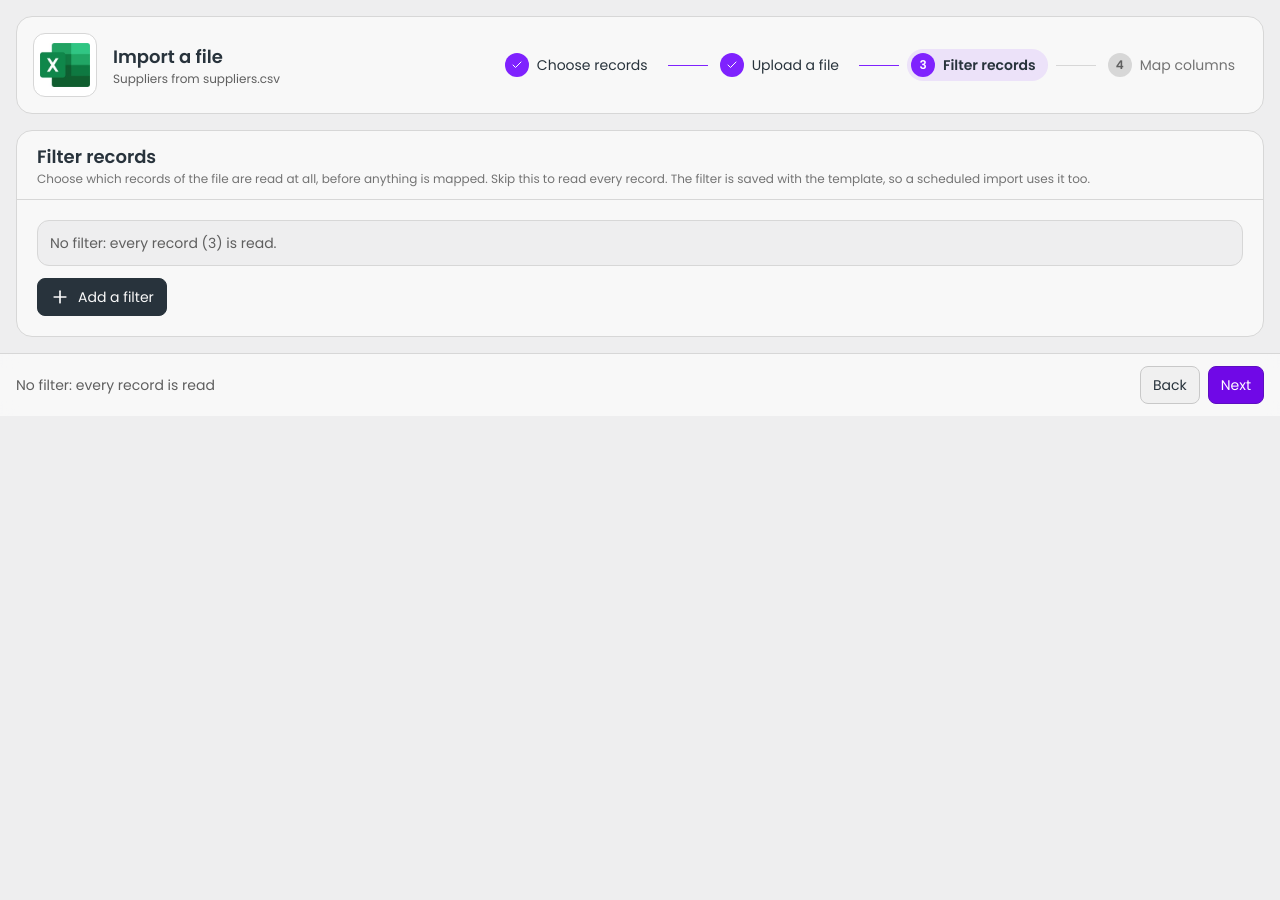
Test case: file import wizard › step 3: a half-typed rule is not sent or saved, and a problem the server finds stops Next
The image size is (1280, 900).
Click the button "Add a filter" at {"x": 102, "y": 297}, box x1=37 y1=278 x2=167 y2=316
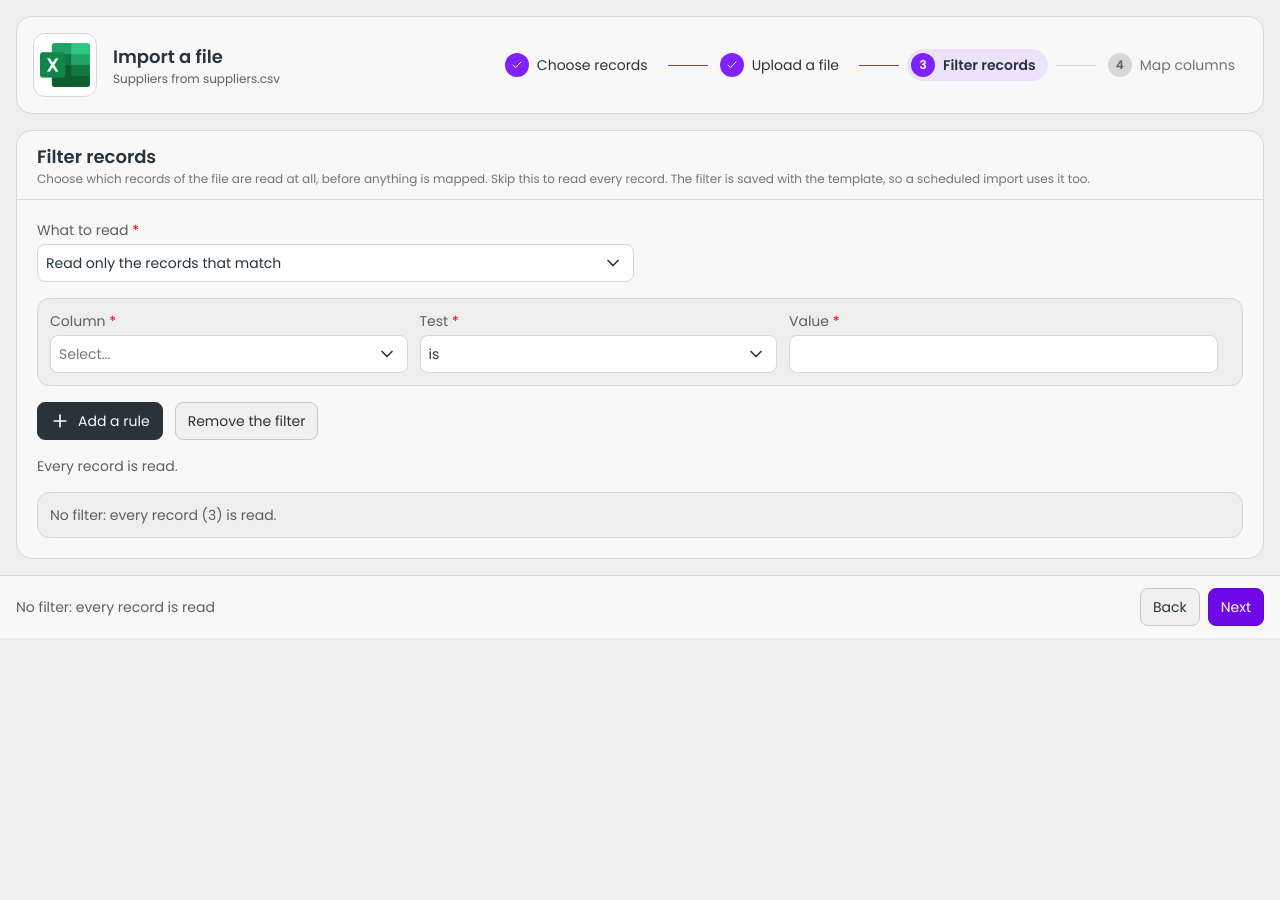
Click the dropdown labelled "Column" at {"x": 211, "y": 354}, box x1=59 y1=344 x2=362 y2=364
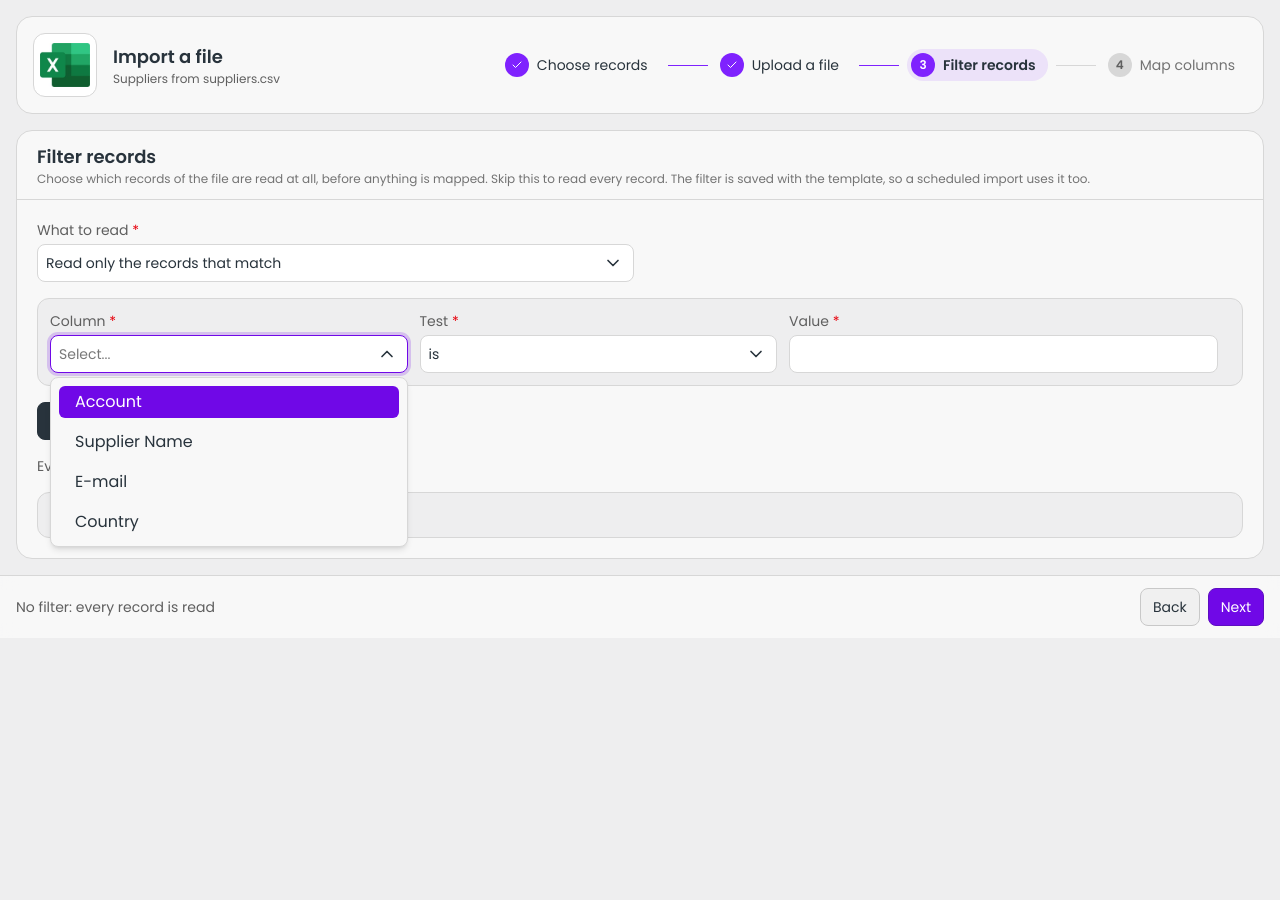
Click the option "Country" at {"x": 107, "y": 522}, box x1=75 y1=510 x2=139 y2=533
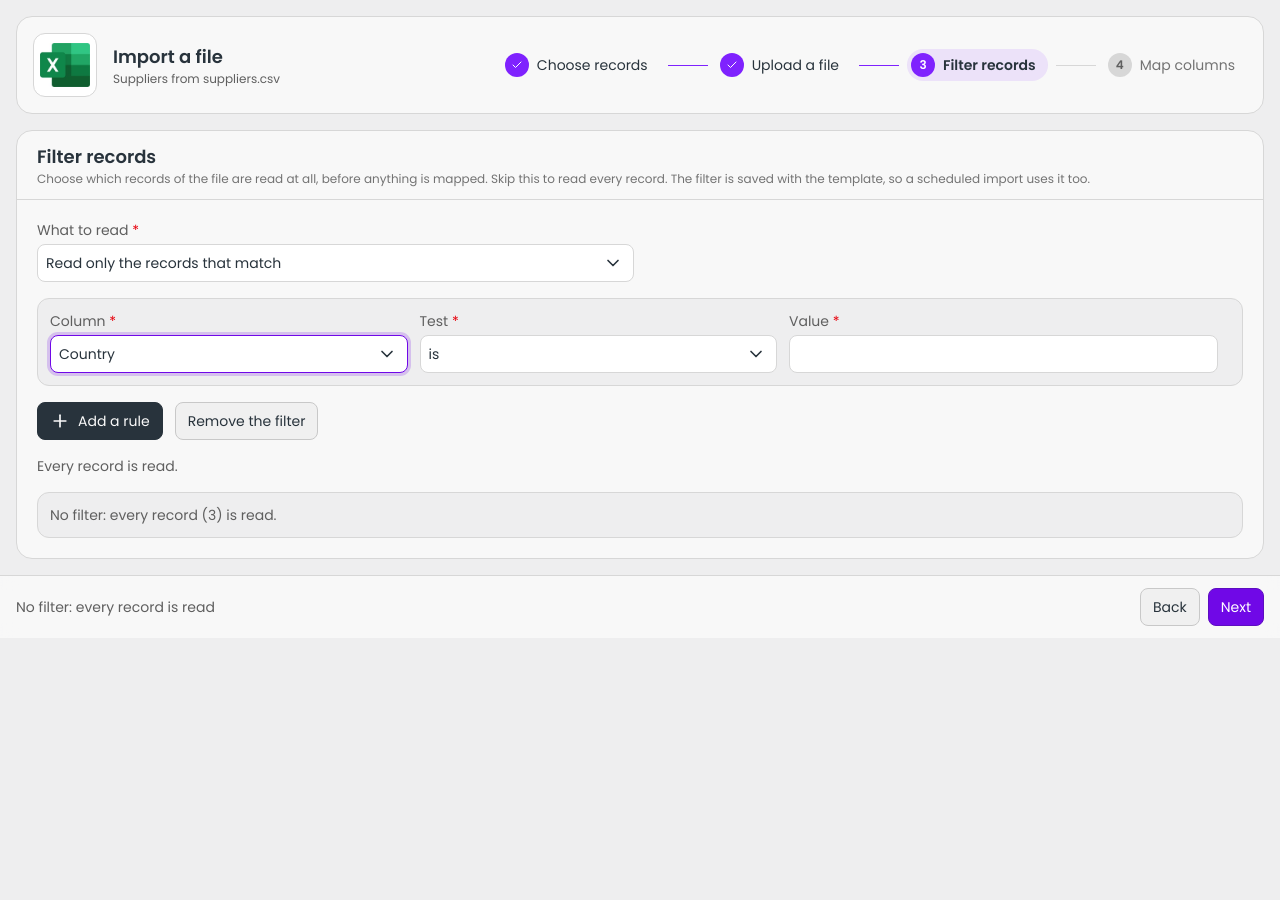
Type "GB" into the field named "Value for rule 1" at {"x": 1004, "y": 354}, box x1=789 y1=335 x2=1218 y2=373
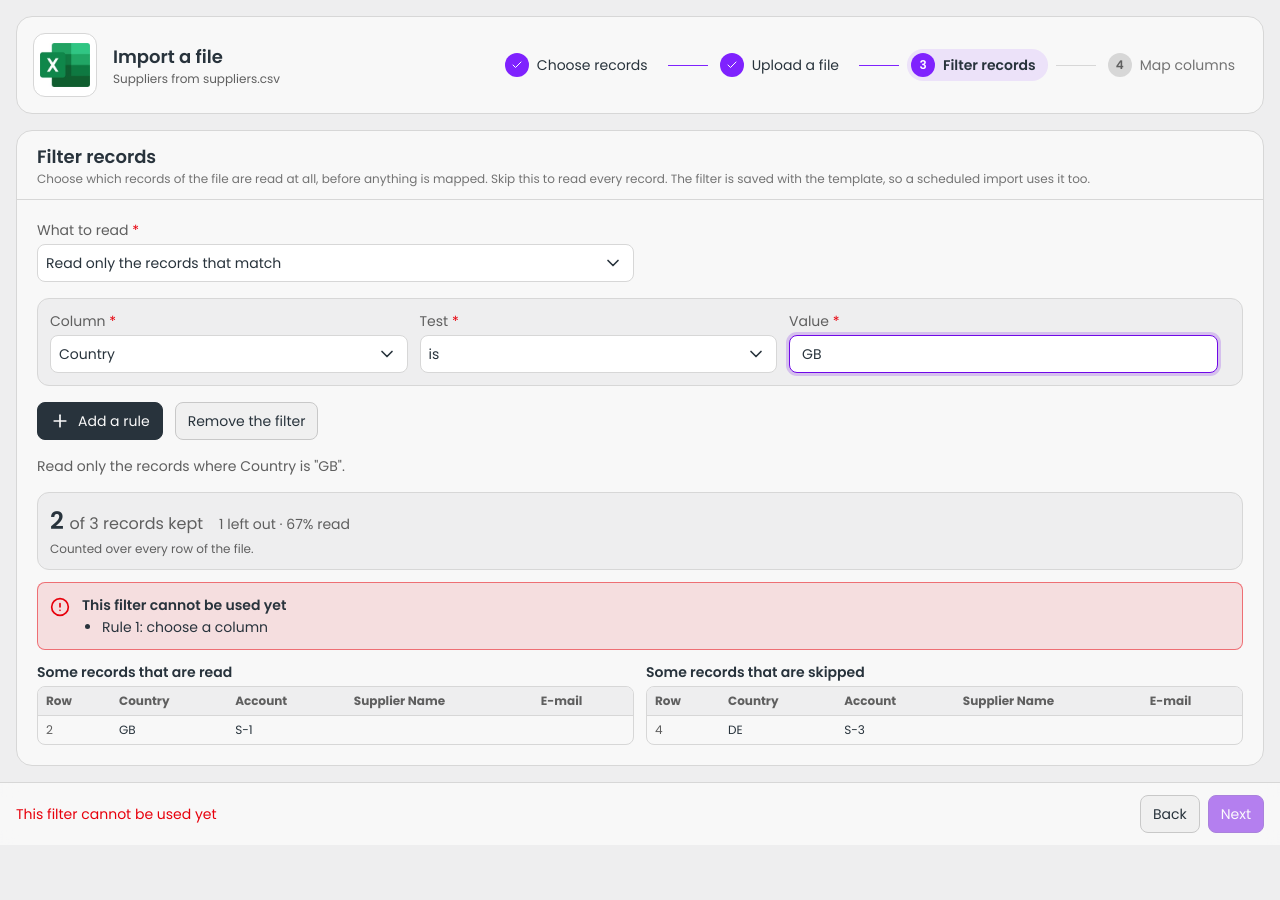
Now the list item "Rule 1: choose a column" is shown, box x1=102 y1=617 x2=268 y2=637
Now the button "Next" is disabled, box x1=1208 y1=795 x2=1264 y2=833
